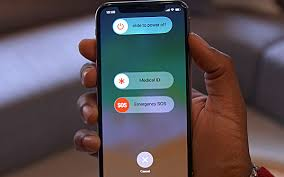iphone10: (92, 1, 196, 176)
